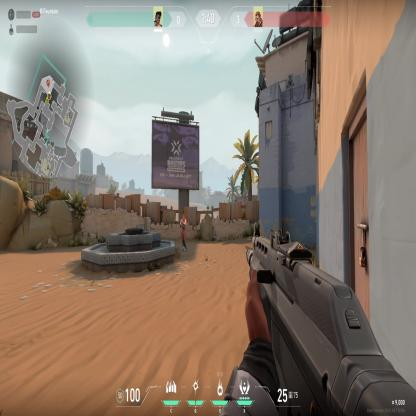enemy: (180, 215, 188, 252)
